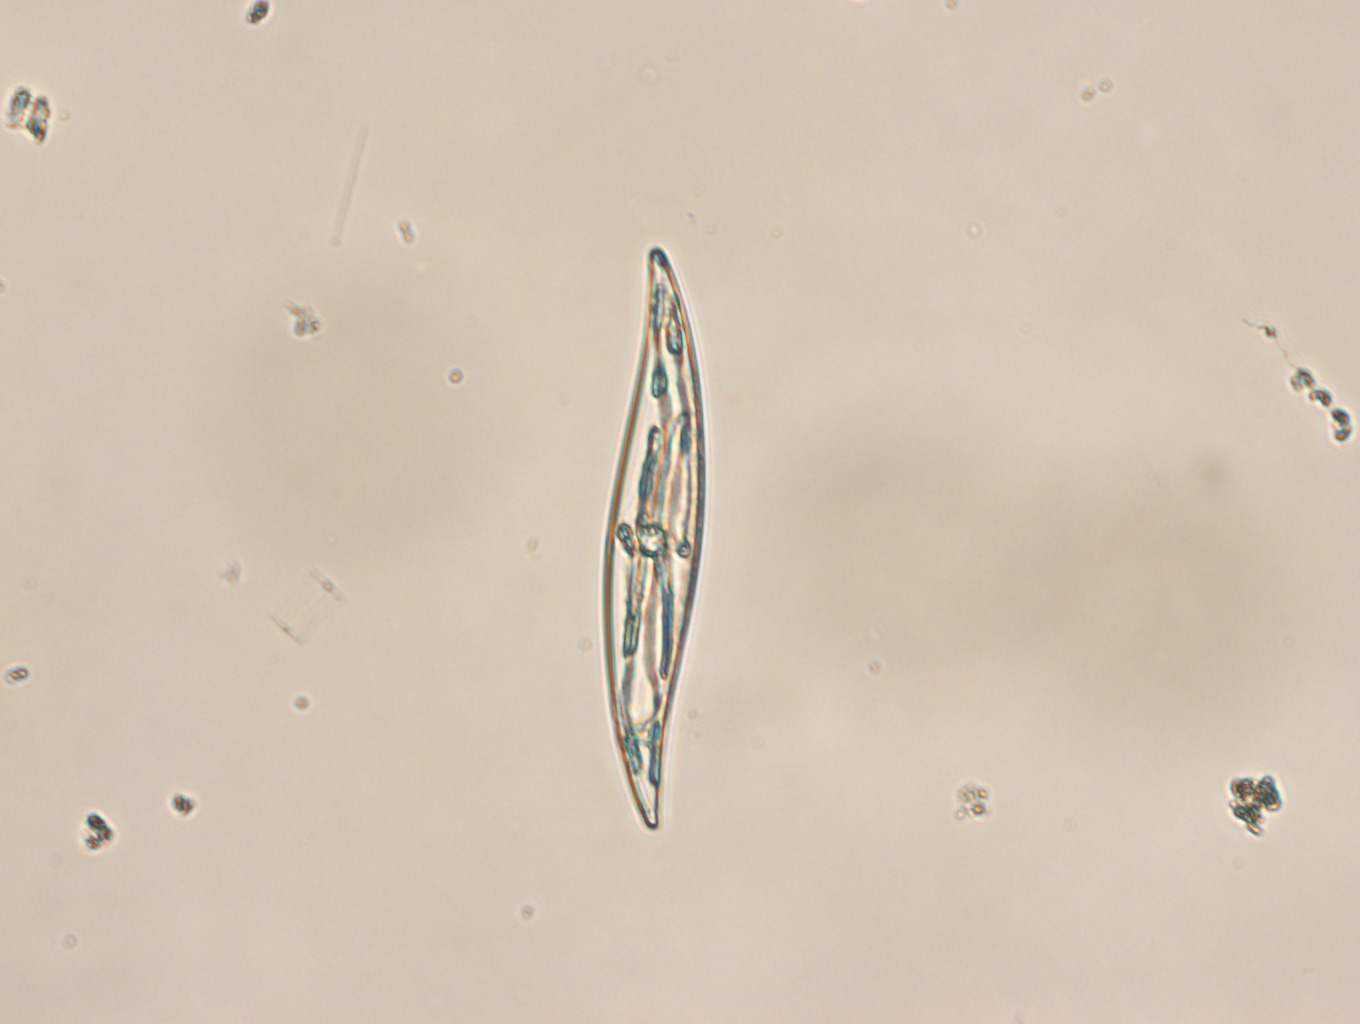pleurosigma pelagicum: (599, 244, 707, 830)
